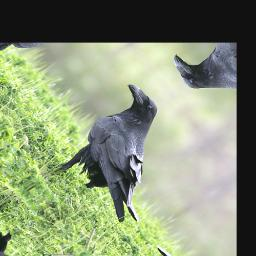Crow: (32, 79, 212, 241)
